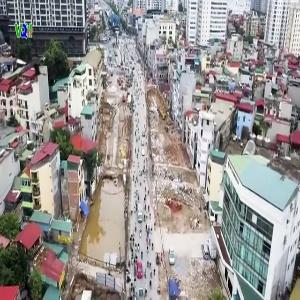drone: (14, 51, 52, 89)
